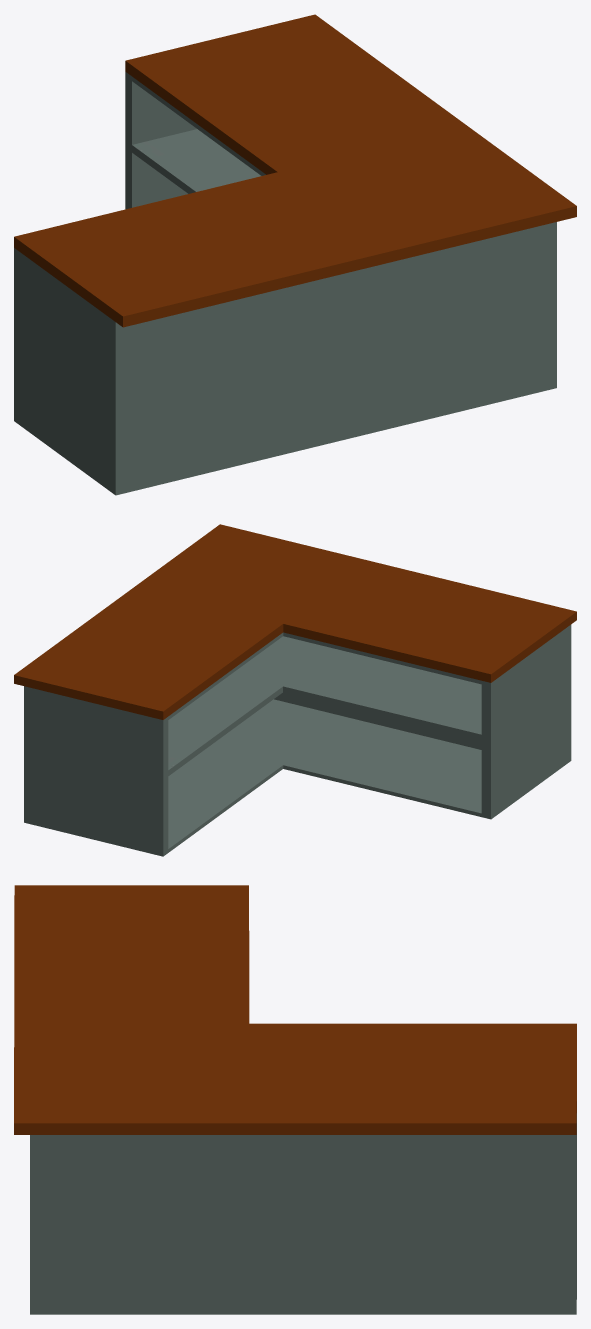
File: SM_Counter_Corner_01.glb
3 renders of one model, top to bottom at view 1: azimuth 30°, elevation 25°; view 2: azimuth 150°, elevation 25°; view 3: azimuth 270°, elevation 25°, orthographic. The views are drawn at different scales.
Parts seen in each view (by area): view 1: SM_Counter_Corner_01; view 2: SM_Counter_Corner_01; view 3: SM_Counter_Corner_01.
Boxes of the visible parts, x1,y1,x2,y2 form: SM_Counter_Corner_01: [14, 14, 576, 495]; SM_Counter_Corner_01: [14, 524, 576, 856]; SM_Counter_Corner_01: [14, 885, 576, 1314].
Bounding box in the file's own units: 2.58 × 1 × 2.57.
2 materials, 1 textured.
